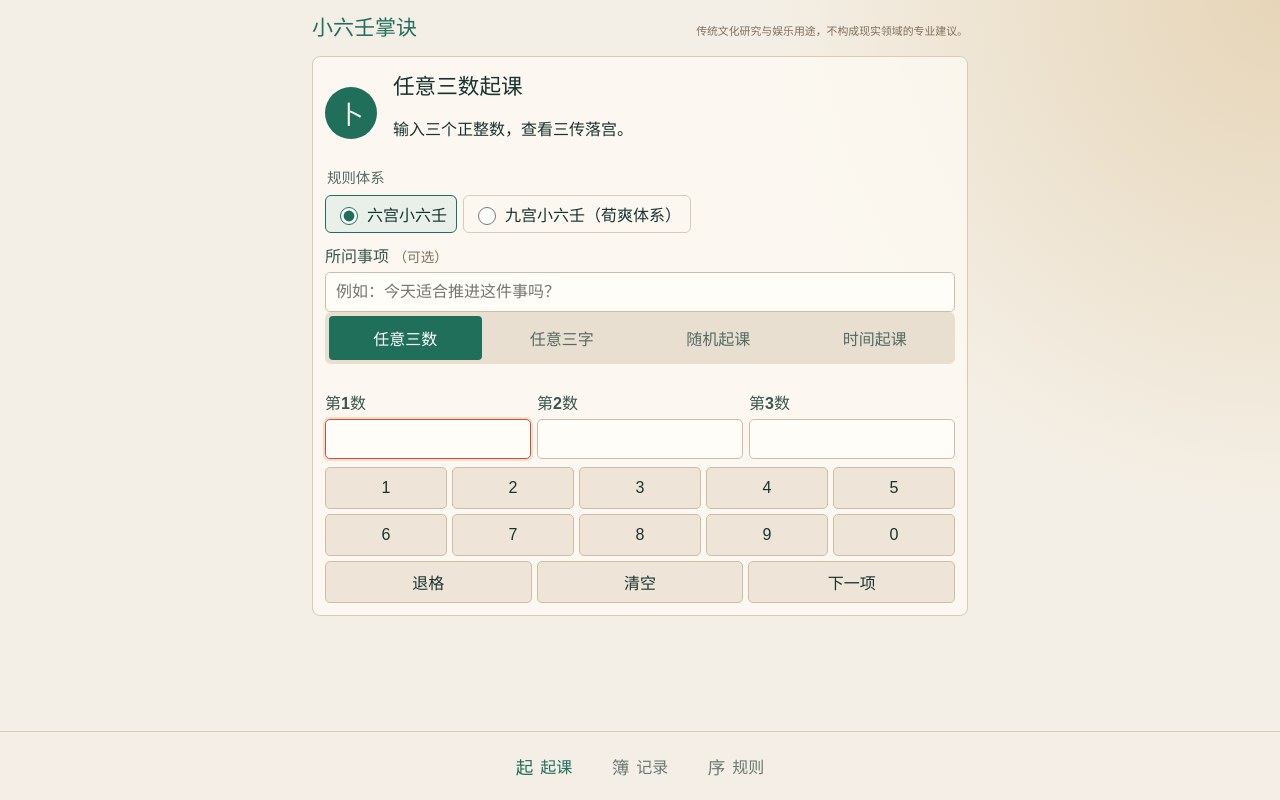
Test: 三数起课应用流程 › blocks invalid three-character content
The width and height of the screenshot is (1280, 800).
Click the tab "任意三字": (562, 338) top-left (486, 316), bottom-right (638, 360)
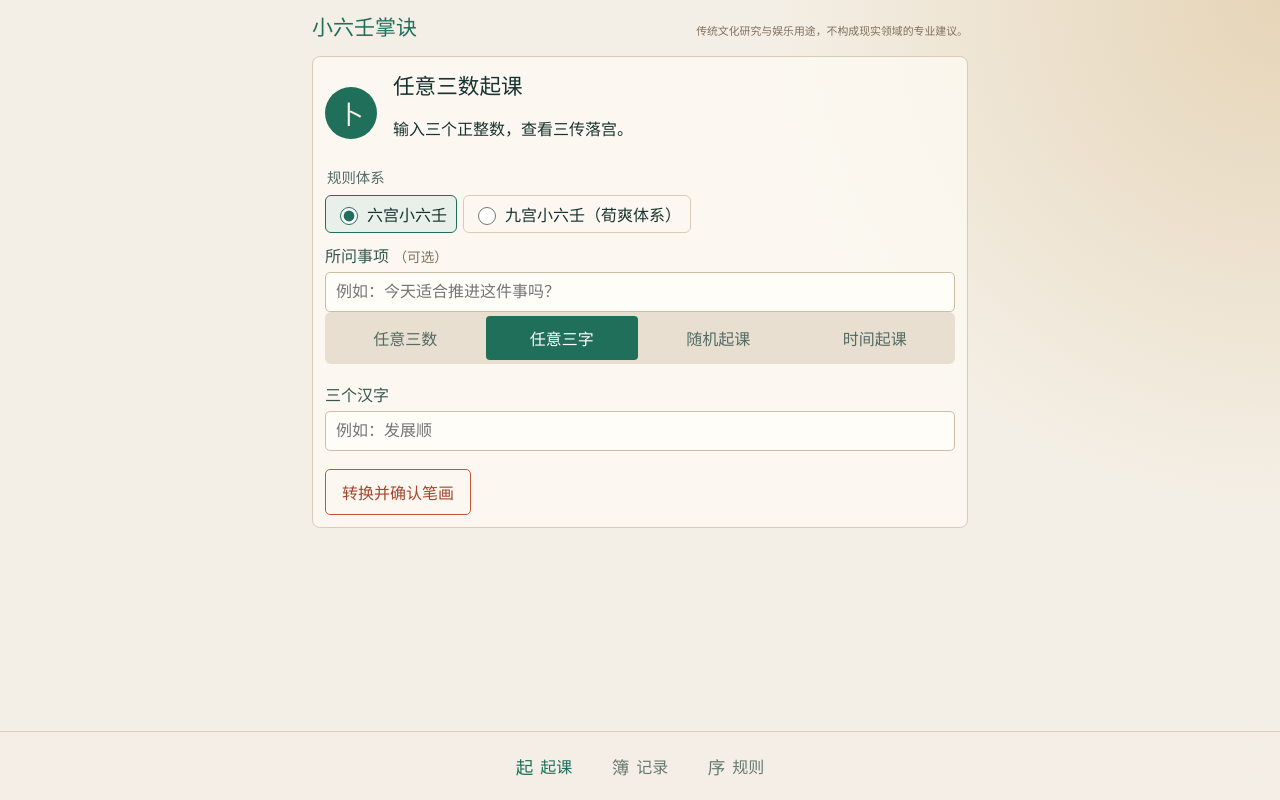
In the field labelled "三个汉字": (640, 431) top-left (325, 411), bottom-right (955, 451), type "天1地"
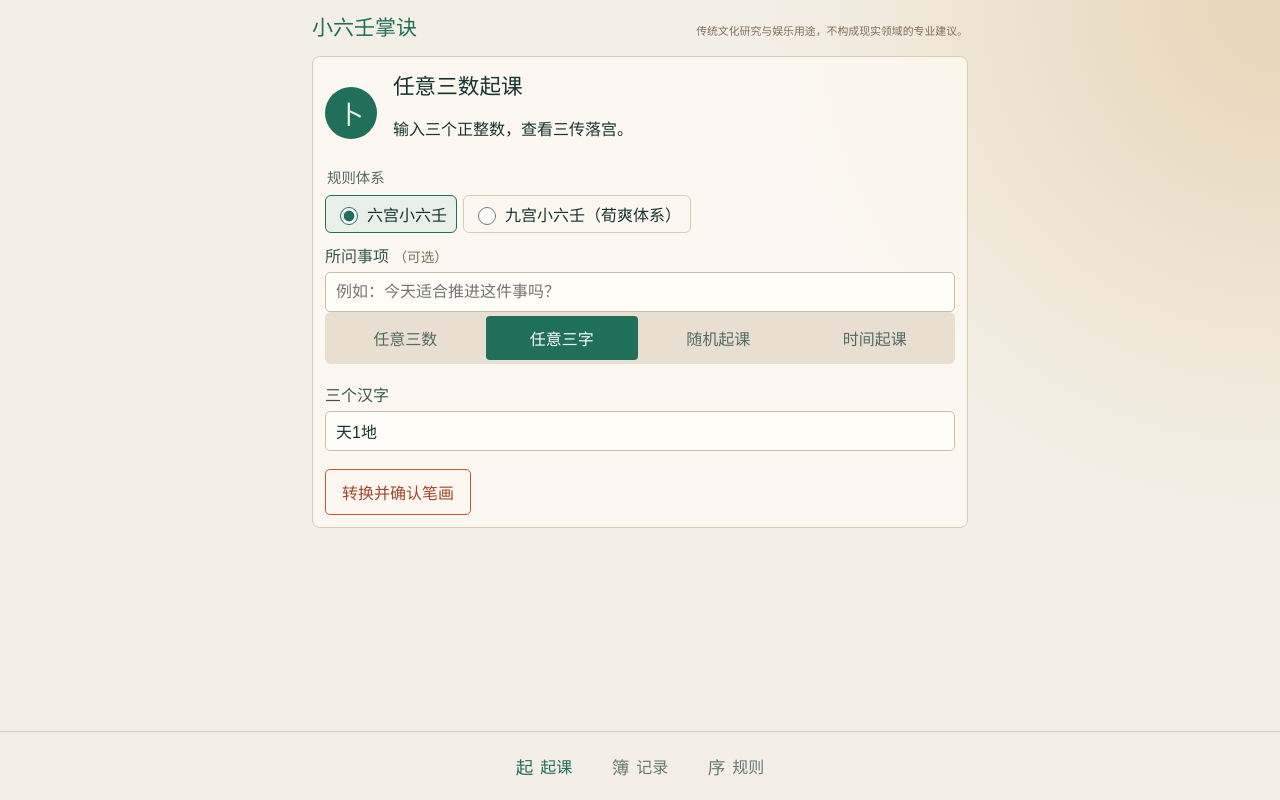
Click the button "转换并确认笔画": (398, 492) top-left (325, 469), bottom-right (471, 515)
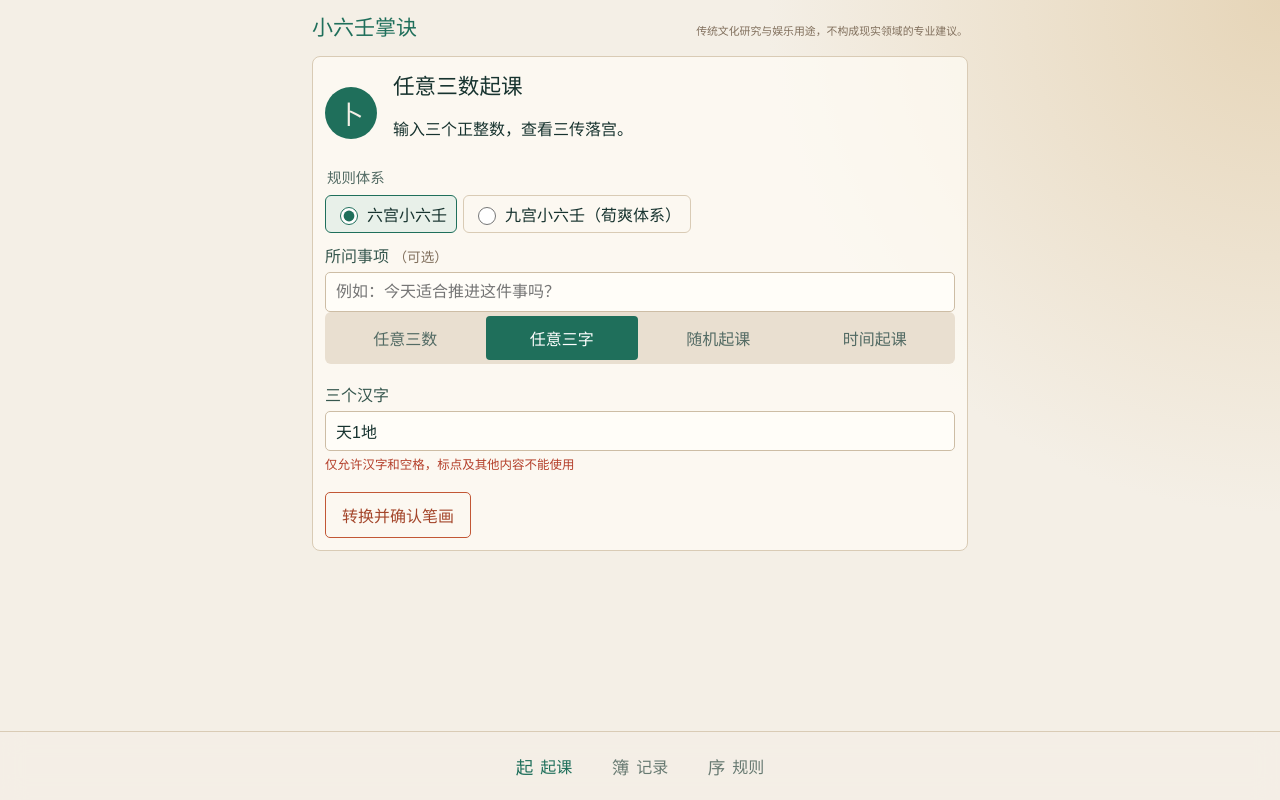
Expected: the text "仅允许汉字和空格，标点及其他内容不能使用" is shown, top-left (325, 458), bottom-right (574, 472)
